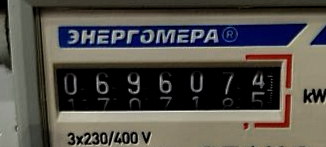0: (61, 71, 80, 96), (188, 68, 205, 94)
4: (250, 67, 266, 89)
5: (250, 90, 266, 110)
6: (156, 68, 174, 95), (93, 70, 111, 95)
7: (220, 69, 236, 95)
9: (125, 69, 141, 95)
screen: (43, 50, 296, 131)
